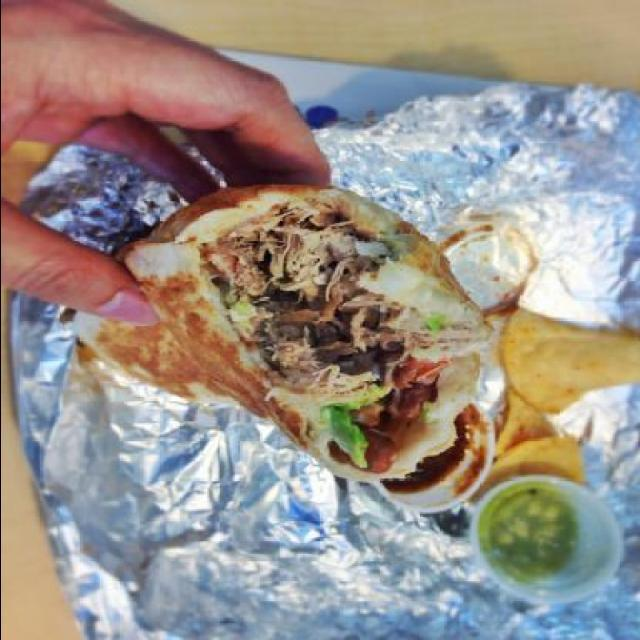Sandwich: (66, 178, 497, 482)
